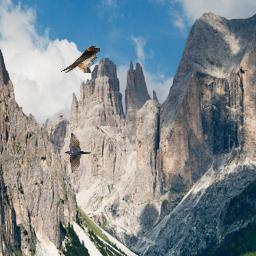Swallow: (64, 133, 99, 173), (60, 46, 100, 73)
